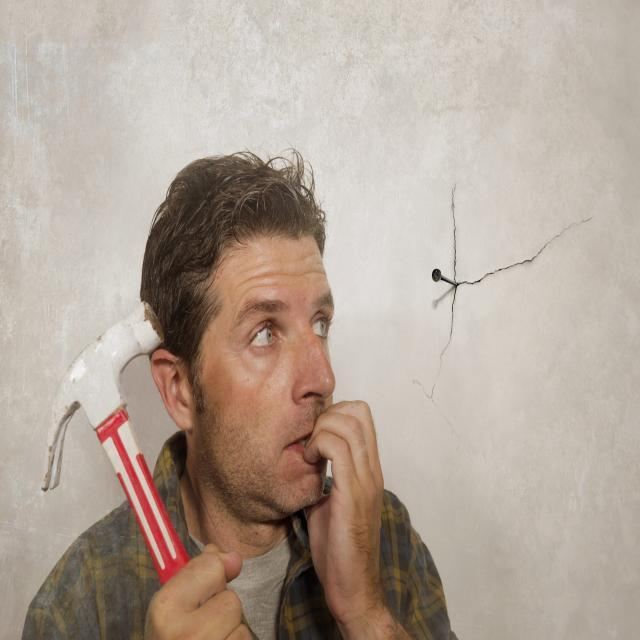hammer: (21, 296, 219, 596)
